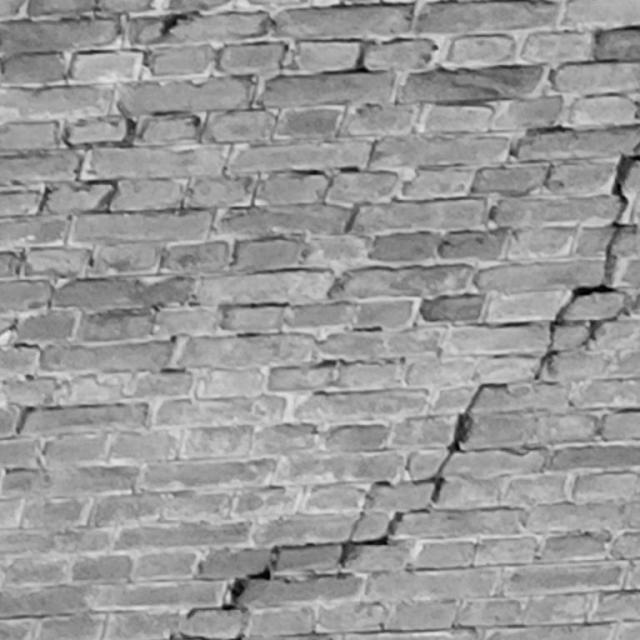crack: (171, 142, 639, 640)
